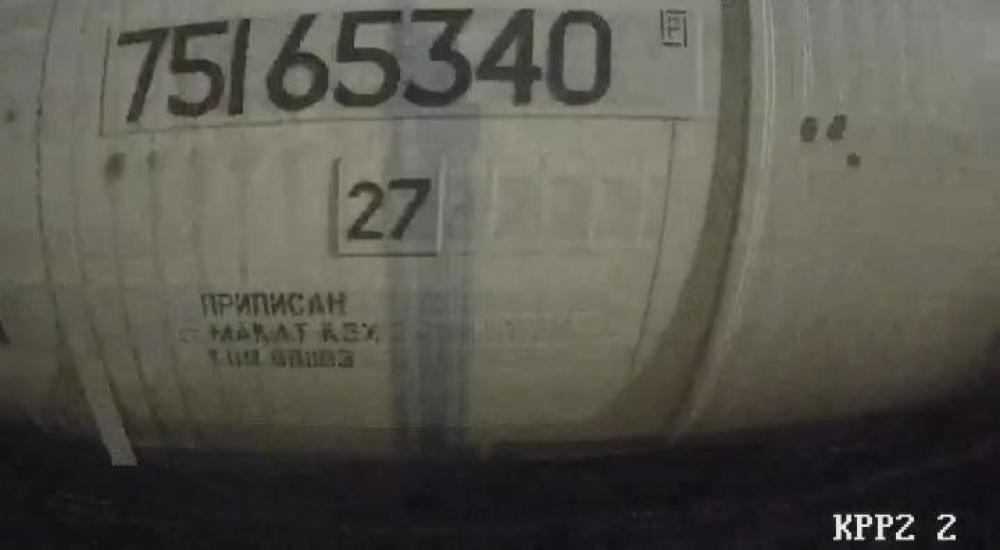Wagon-number: (111, 2, 620, 128)
